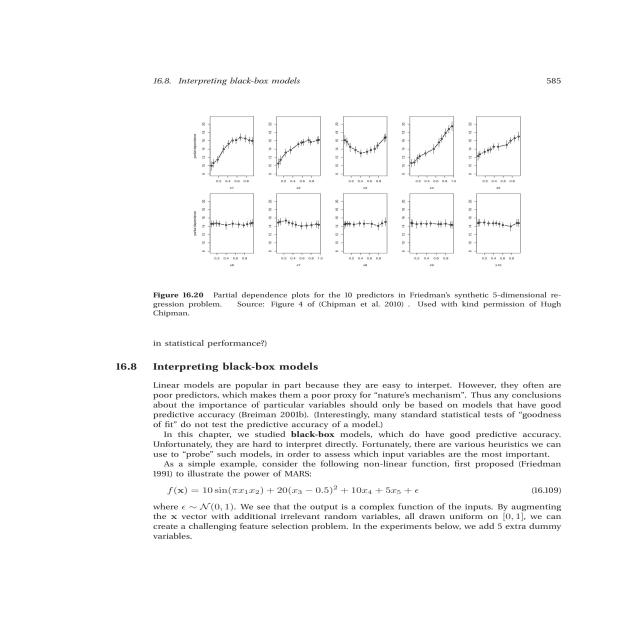diagram: (56, 93, 621, 325)
